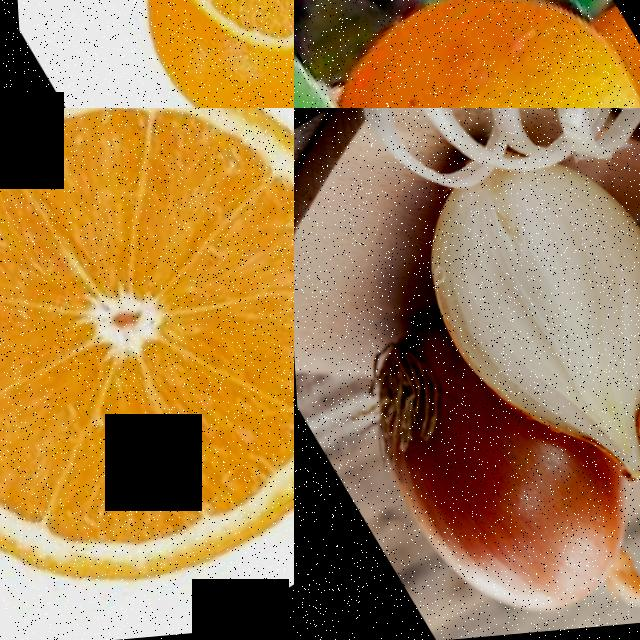onion: (310, 289, 609, 640), (385, 124, 640, 481)
orange: (0, 108, 294, 640), (322, 0, 640, 108), (100, 0, 281, 108), (114, 0, 294, 86)
